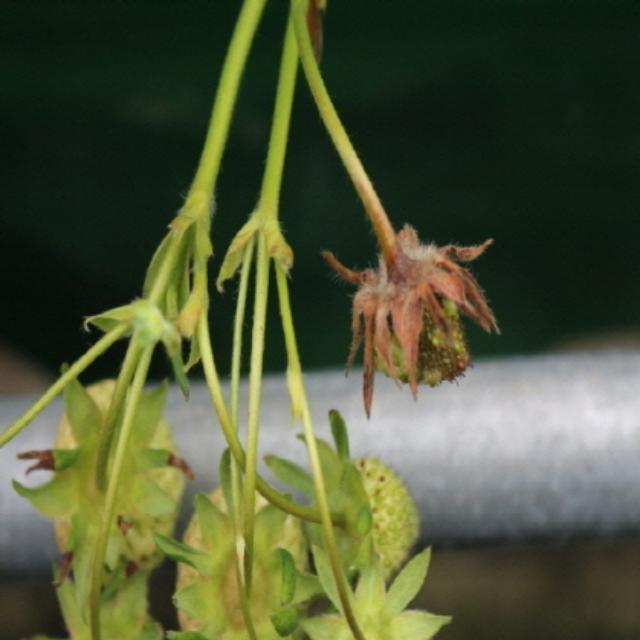Gray Mold: (342, 205, 503, 421)
